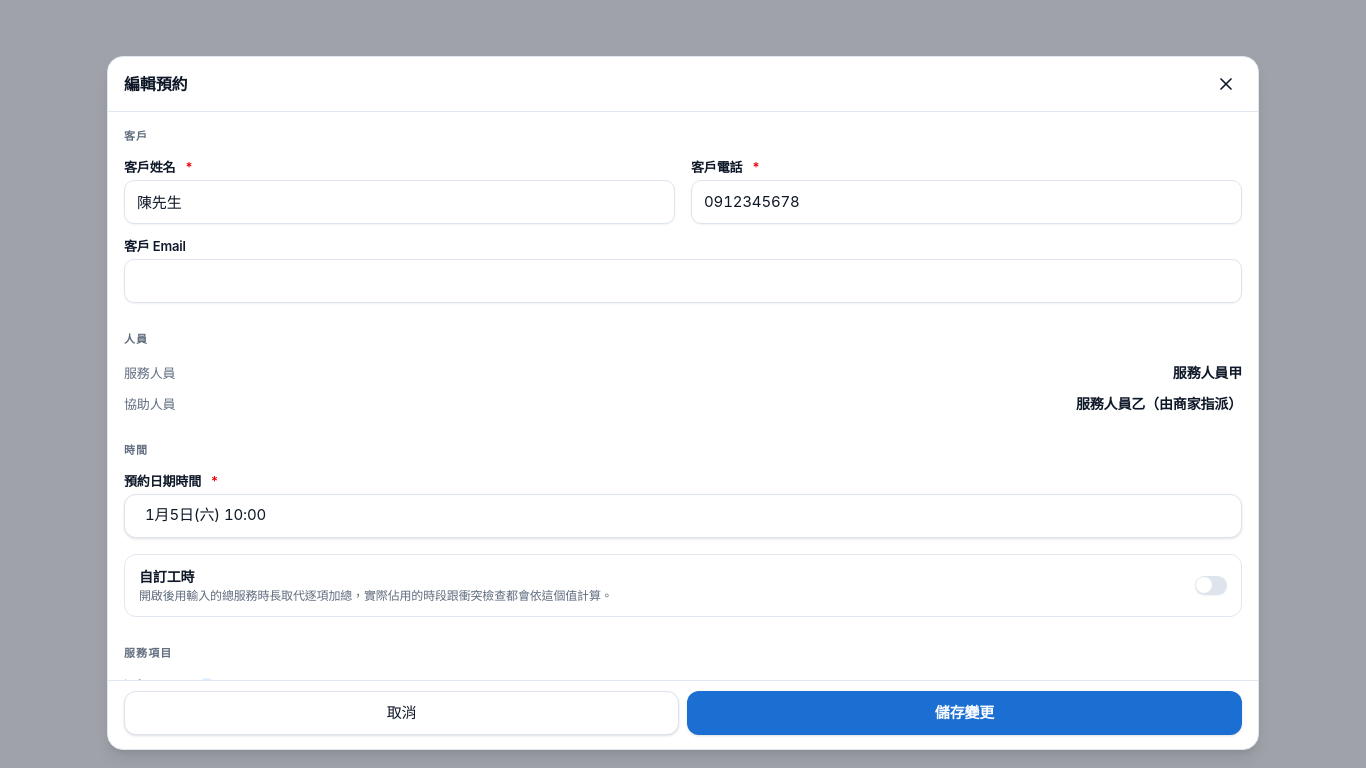
服務人員模式:改電話的改掛提示(#939) › 這張單有會員、電話改了才出現 `!`;改回原電話(含只改格式)就消失
The width and height of the screenshot is (1366, 768).
Replace the text in the field with id "booking-customer-phone" with "0933111222" at (966, 202), box [691, 180, 1242, 224]
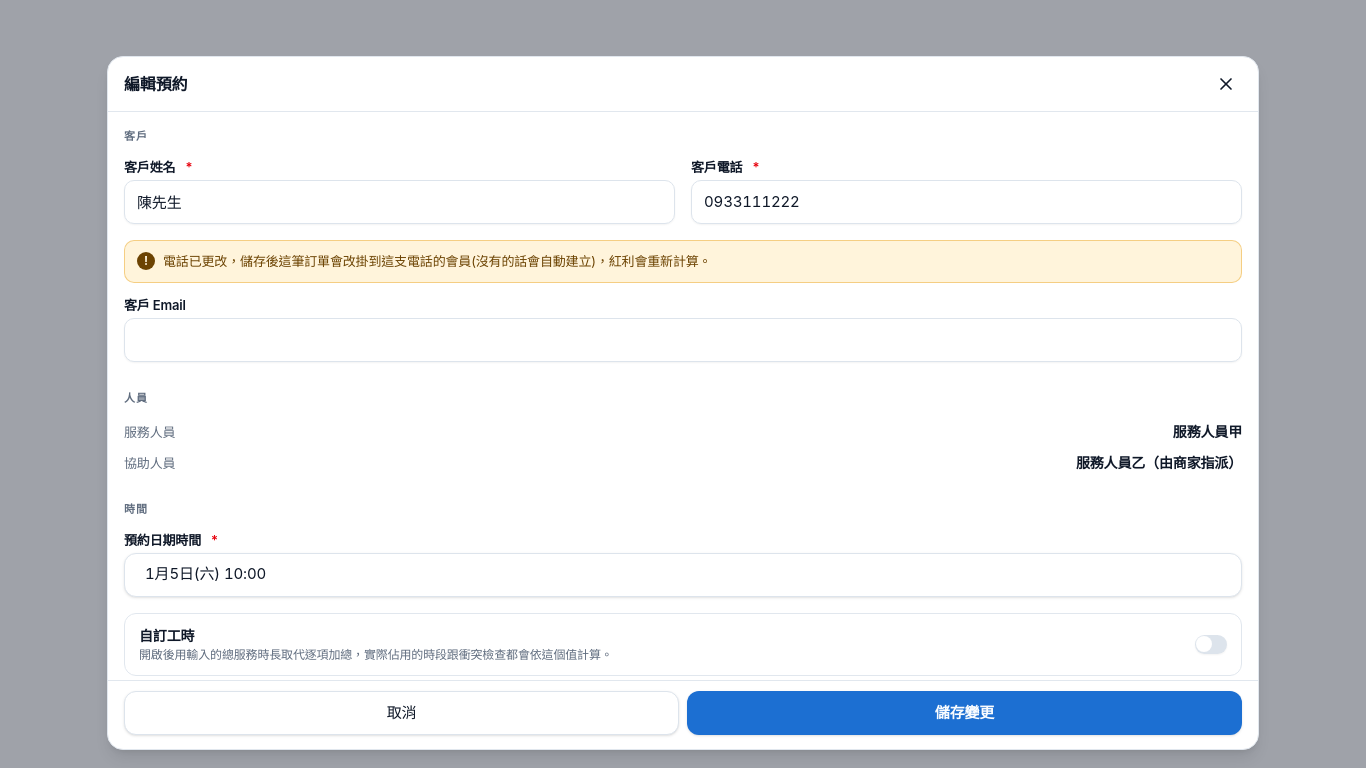
Now the element with test id "staff-relink-notice" shows "電話已更改，儲存後這筆訂單會改掛到這支電話的會員(沒有的話會自動建立)，紅利會重新計算。", box [163, 252, 712, 268]
Replace the text in the field with id "booking-customer-phone" with "0912-345-678" at (966, 202), box [691, 180, 1242, 224]
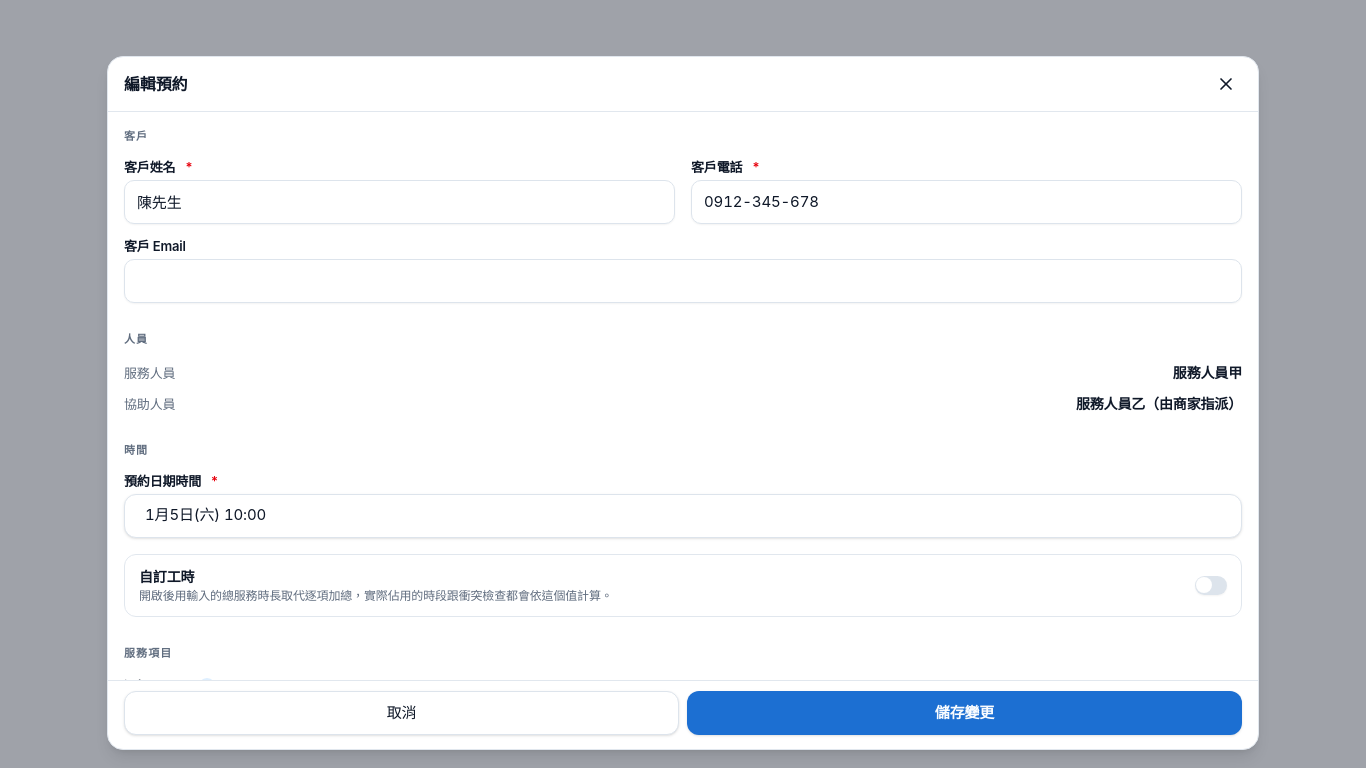
Now the element with test id "staff-relink-notice" is gone
